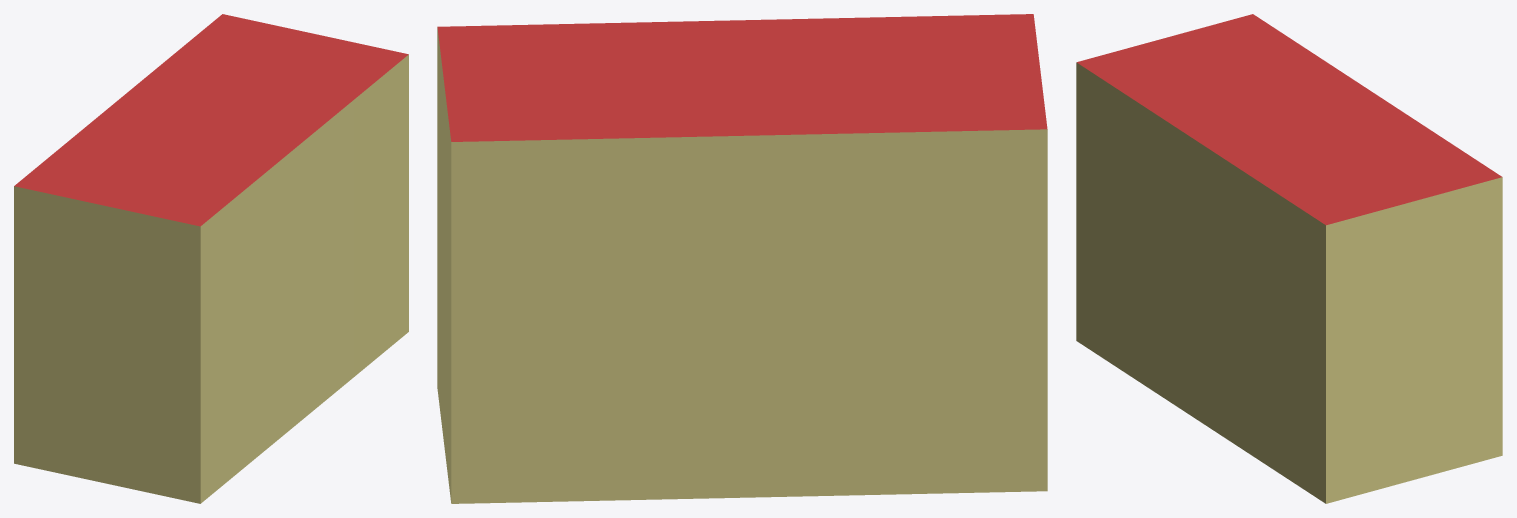
The picture shows the model from 3 angles, left to right: view 1: azimuth 30°, elevation 25°; view 2: azimuth 150°, elevation 25°; view 3: azimuth 270°, elevation 25°; orthographic projection. The views are drawn at different scales.
Visible parts, largest first — view 1: group_4, group_3; view 2: group_4, group_3; view 3: group_4, group_3.
Boxes of the visible parts, x1,y1,x2,y2 form: group_4: (14, 54, 408, 503); group_3: (14, 14, 408, 226); group_4: (437, 27, 1047, 503); group_3: (437, 14, 1047, 141); group_4: (1076, 62, 1502, 503); group_3: (1077, 14, 1501, 225).
Size of the model in its own units: 8.68 by 7.39 by 5.33.
